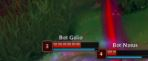bar: (41, 38, 100, 52), (95, 47, 148, 60)
